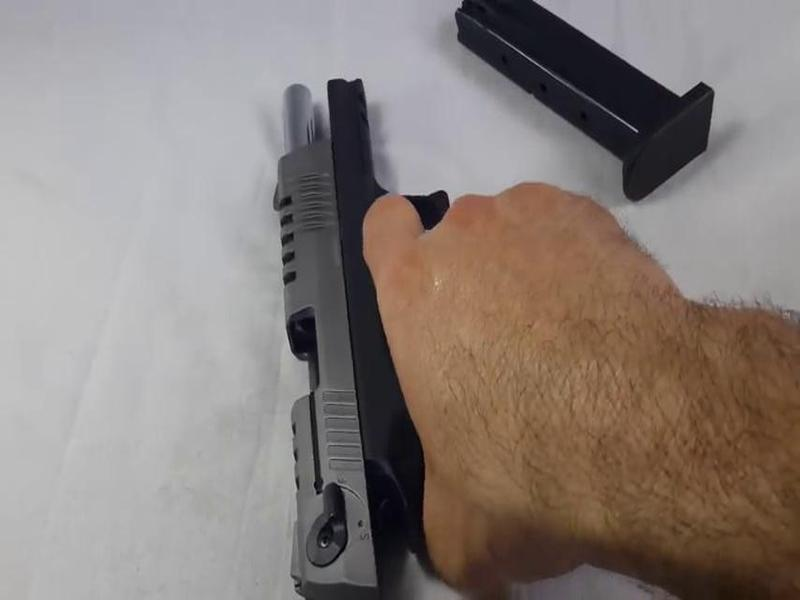Pistola: (227, 49, 494, 592)
